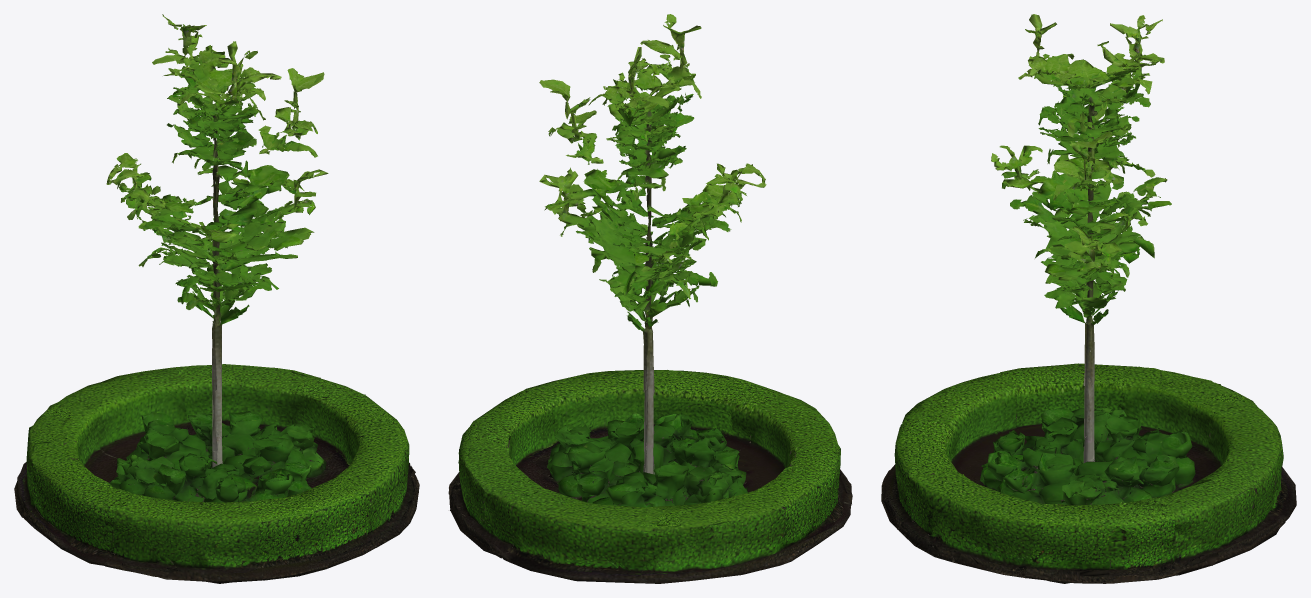
Rendered from plantarecta.glb.
3 renders of one model, left to right at view 1: azimuth 30°, elevation 25°; view 2: azimuth 150°, elevation 25°; view 3: azimuth 270°, elevation 25°, orthographic. The views are drawn at different scales.
Parts seen in each view (by area): view 1: tripo_node_034e5603-4fd0-4983-8e4a-36cb47569f07; view 2: tripo_node_034e5603-4fd0-4983-8e4a-36cb47569f07; view 3: tripo_node_034e5603-4fd0-4983-8e4a-36cb47569f07.
Boxes of the visible parts, x1=… form: tripo_node_034e5603-4fd0-4983-8e4a-36cb47569f07: x1=14, y1=14, x2=419, y2=583; tripo_node_034e5603-4fd0-4983-8e4a-36cb47569f07: x1=448, y1=14, x2=852, y2=583; tripo_node_034e5603-4fd0-4983-8e4a-36cb47569f07: x1=881, y1=14, x2=1296, y2=583.
Size of the model in its own units: 0.7851 by 1 by 0.7897.
1 material, 1 textured.
